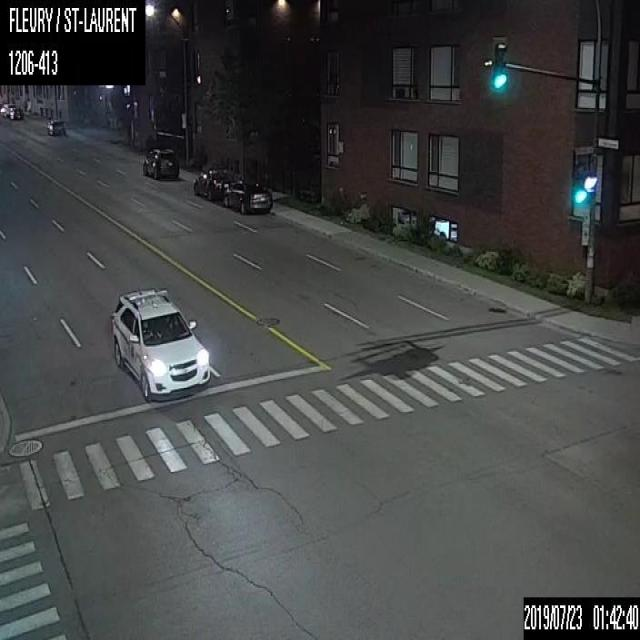vehicle: (110, 284, 210, 401), (224, 180, 274, 215), (192, 167, 237, 202), (141, 145, 179, 179), (46, 118, 64, 134), (8, 105, 23, 120), (0, 103, 15, 117)
